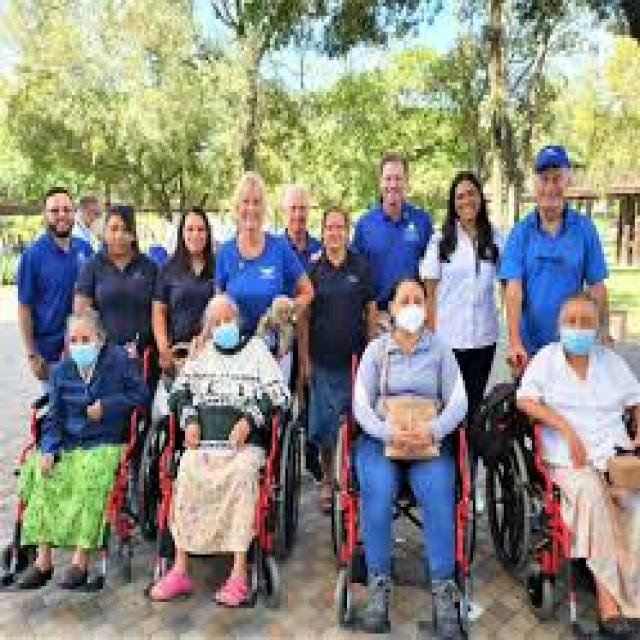wheelchairs: (480, 405, 591, 640)
